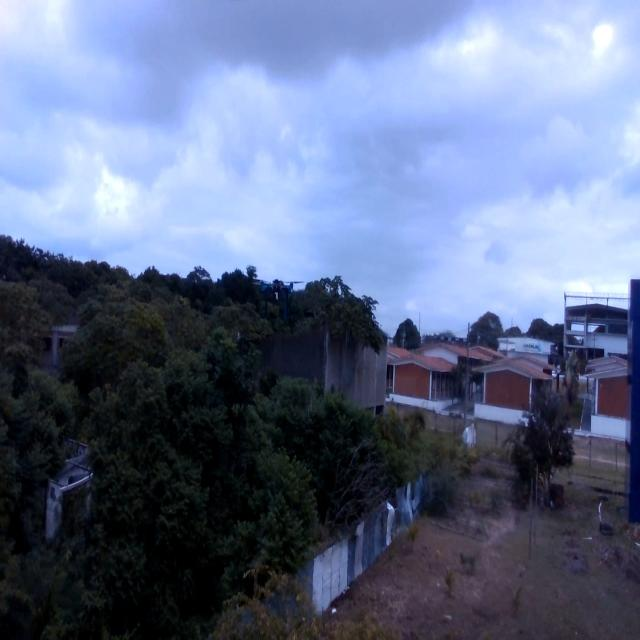-uav-: (252, 261, 308, 335)
